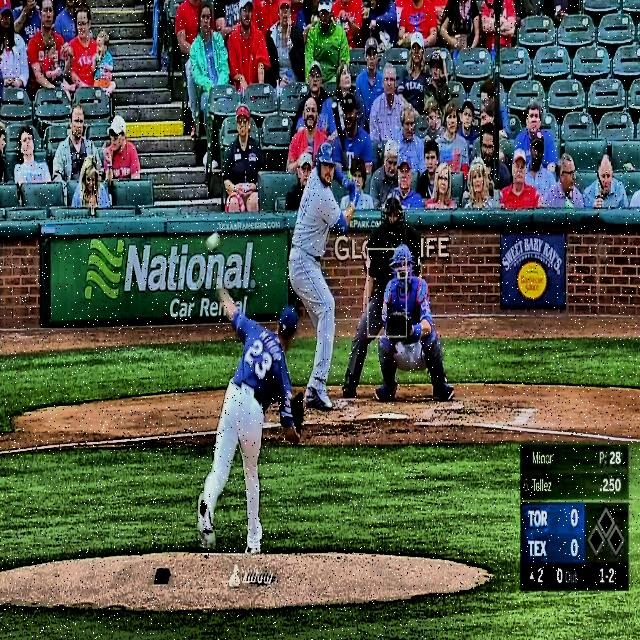baseball: (206, 232, 220, 252)
